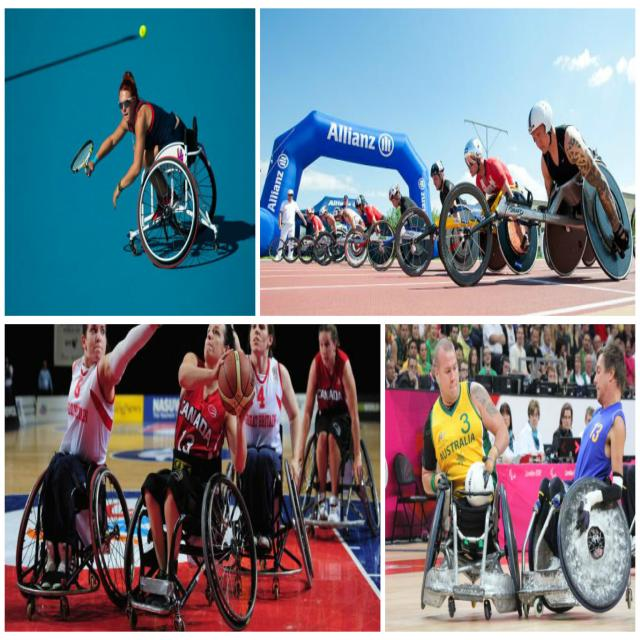wheelchairs: (128, 470, 259, 628), (12, 456, 124, 616), (412, 468, 526, 622), (522, 472, 631, 622), (130, 138, 224, 275), (308, 428, 381, 536)
